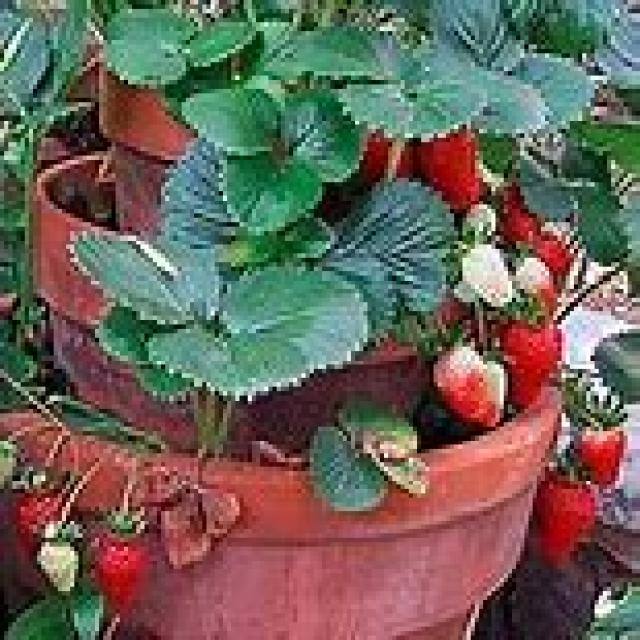Berries strawberries/blueberries: (536, 471, 592, 568), (511, 318, 564, 410), (432, 339, 490, 423), (92, 532, 146, 610), (578, 422, 628, 478)
